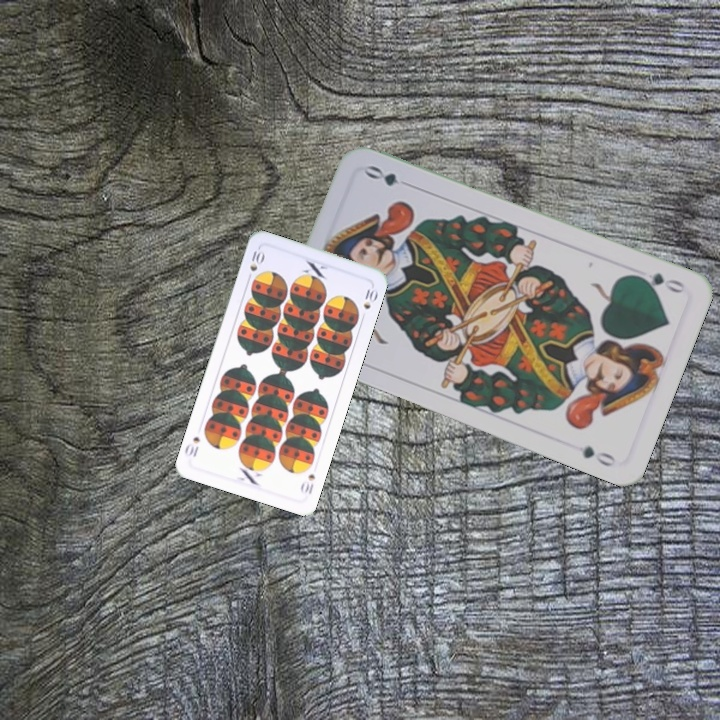GO: (630, 268, 687, 296)
S10: (244, 247, 266, 284), (296, 470, 318, 497)
